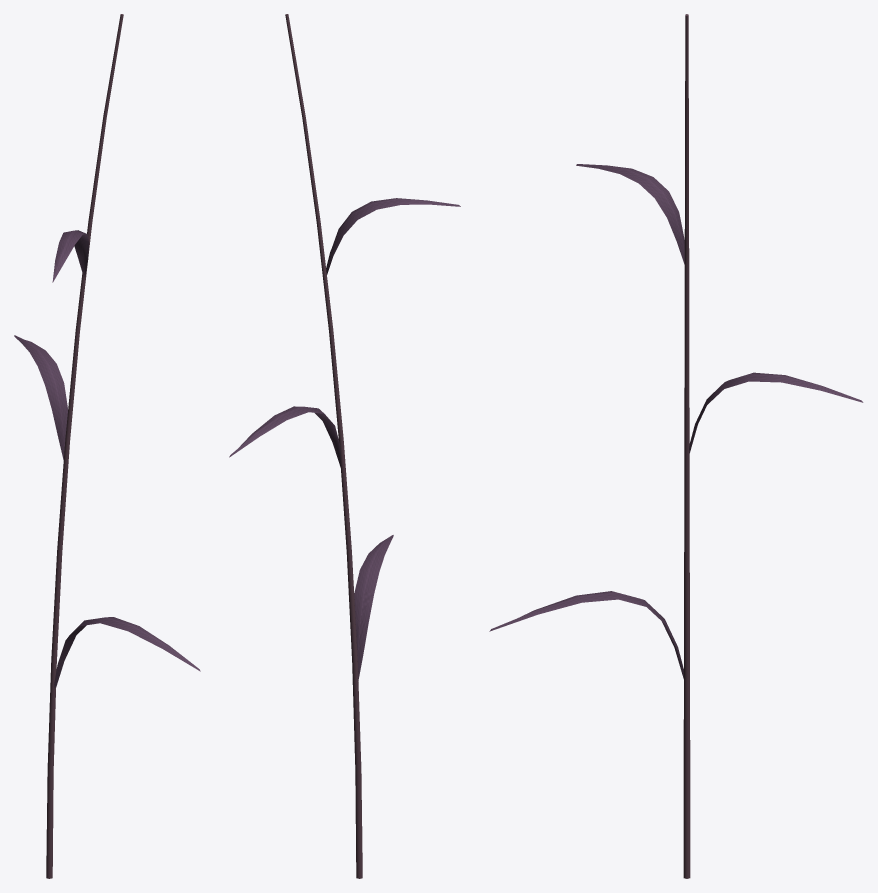
The model's file is single_stem_07.glb.
3 views of the same model, side by side, from view 1: azimuth 30°, elevation 25°; view 2: azimuth 150°, elevation 25°; view 3: azimuth 270°, elevation 25° (orthographic). The views are drawn at different scales.
Visible parts, largest first — view 1: export; view 2: export; view 3: export.
Part boxes in pixels (bbox=[...]): export: bbox=[14, 14, 200, 878]; export: bbox=[229, 14, 460, 878]; export: bbox=[489, 14, 863, 878].
Size of the model in its own units: 0.1528 by 1 by 0.377.
Materials: 2 (2 with a texture image).
